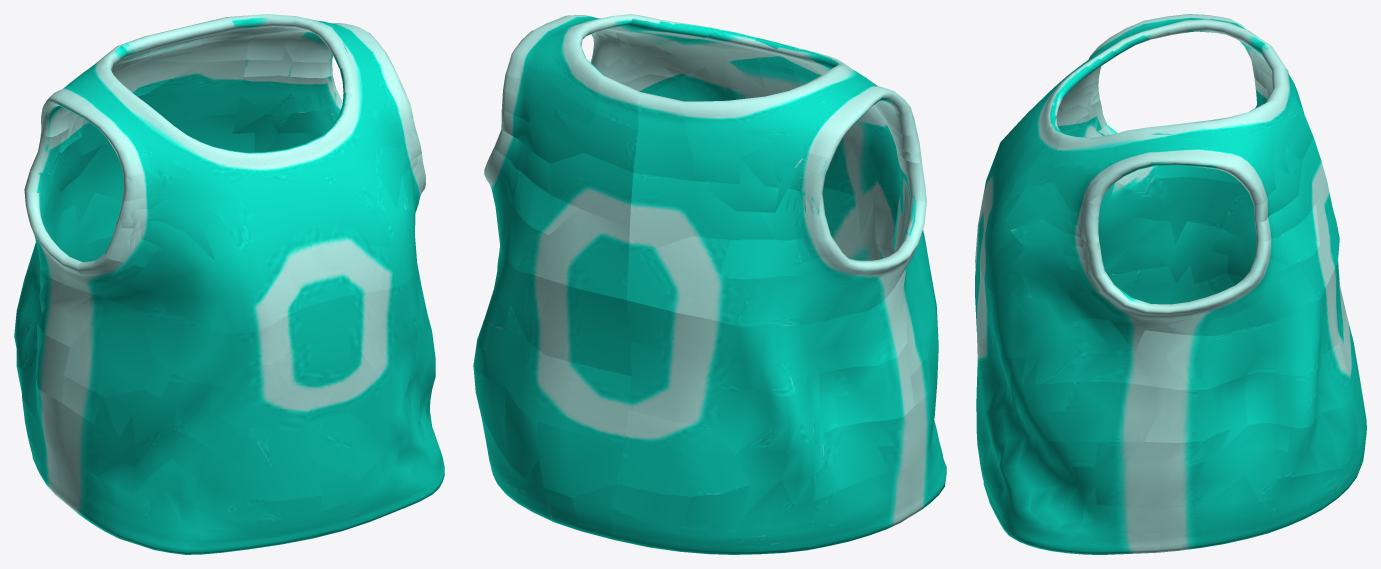
Rendered from Warmup-Mint-Snow.glb.
The picture shows the model from 3 angles, left to right: view 1: azimuth 30°, elevation 25°; view 2: azimuth 150°, elevation 25°; view 3: azimuth 270°, elevation 25°; orthographic projection. The views are drawn at different scales.
Parts seen in each view (by area): view 1: Warmup-Mint-Snow; view 2: Warmup-Mint-Snow; view 3: Warmup-Mint-Snow.
Part boxes in pixels (x1,y1,x2,y2): Warmup-Mint-Snow: (14, 14, 444, 554); Warmup-Mint-Snow: (473, 14, 946, 554); Warmup-Mint-Snow: (975, 14, 1366, 554).
Bounding box in the file's own units: 0.3436 × 0.364 × 0.316.
Materials: 1 (1 with a texture image).
